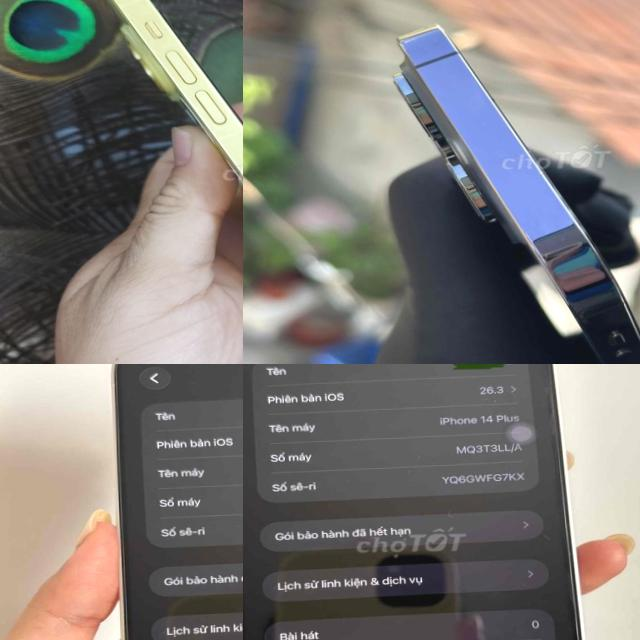gen_14: (243, 364, 601, 640), (395, 25, 640, 364), (87, 0, 243, 364), (100, 364, 243, 640)
